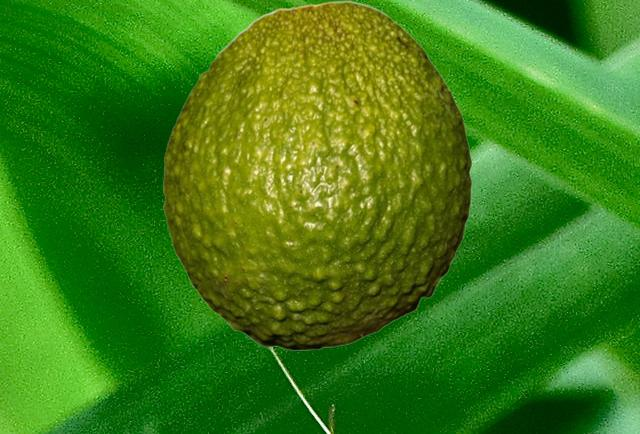avocado: (162, 0, 471, 349)
